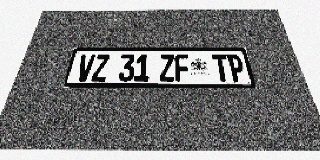1: (134, 55, 150, 81)
3: (118, 55, 135, 81)
F: (174, 55, 191, 81)
P: (226, 54, 247, 81)
T: (212, 55, 231, 81)
V: (75, 55, 95, 81)
Z: (91, 55, 110, 81), (160, 55, 175, 81)
